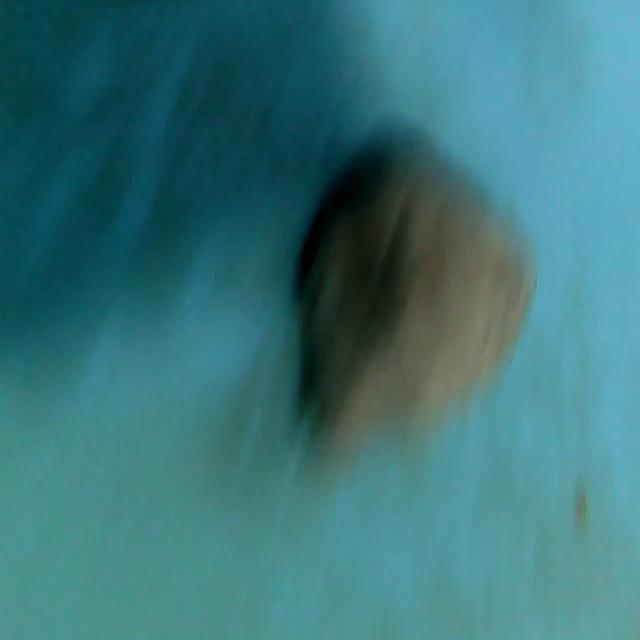rock: (283, 122, 549, 466)
